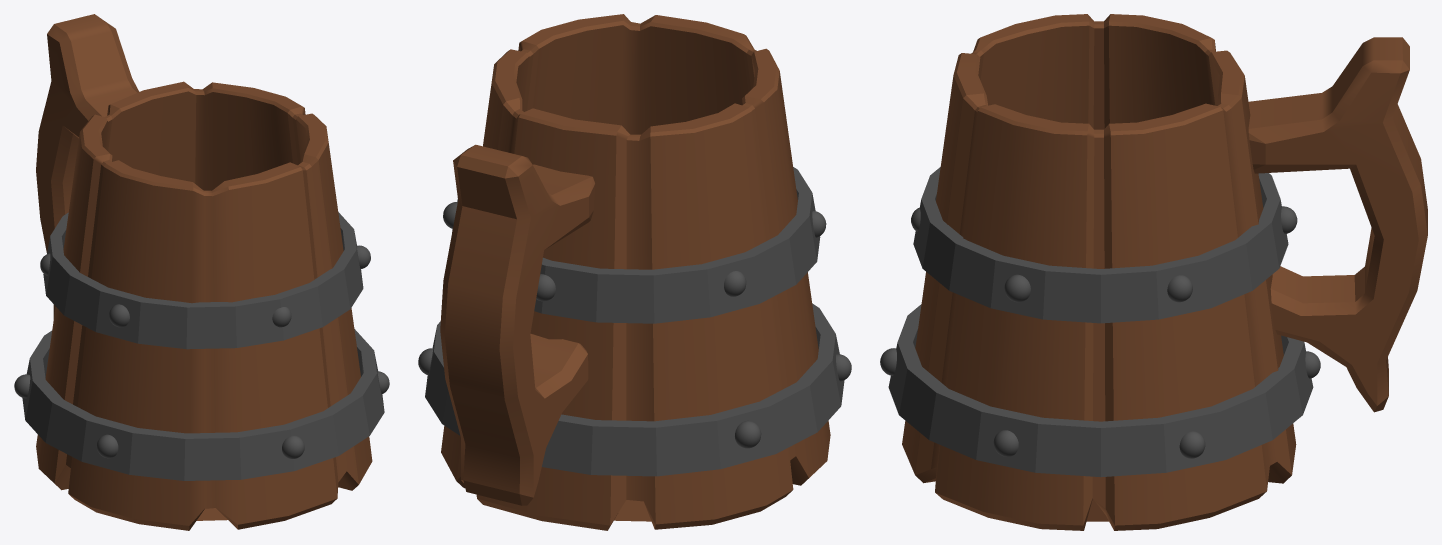
The model's file is wooden cup.fbx.
3 views of the same model, side by side, from view 1: azimuth 30°, elevation 25°; view 2: azimuth 150°, elevation 25°; view 3: azimuth 270°, elevation 25° (orthographic). The views are drawn at different scales.
Visible parts, largest first — view 1: cup1; view 2: cup1; view 3: cup1.
Part boxes in pixels (x1=…): cup1: x1=14, y1=14, x2=389, y2=530; cup1: x1=418, y1=14, x2=851, y2=530; cup1: x1=880, y1=14, x2=1427, y2=530.
Size of the model in its own units: 2.92 by 3.08 by 3.77.
